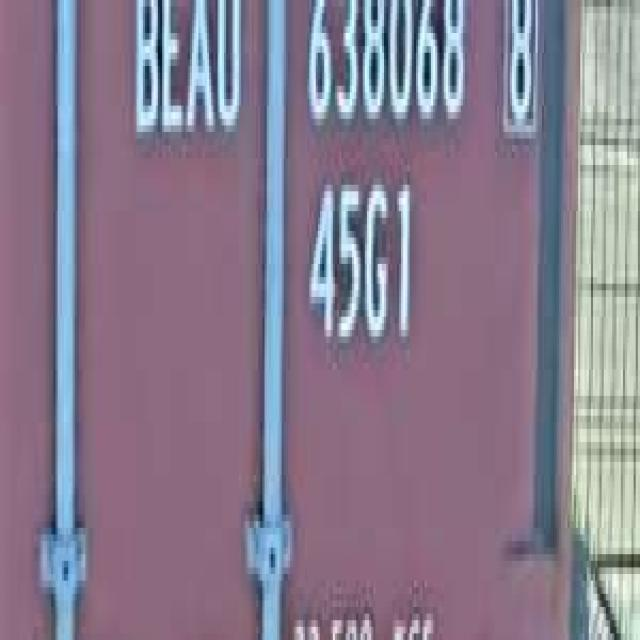dv: (499, 0, 542, 145)
owner: (128, 0, 245, 152)
serial: (298, 0, 472, 145)
size: (301, 158, 418, 363)
